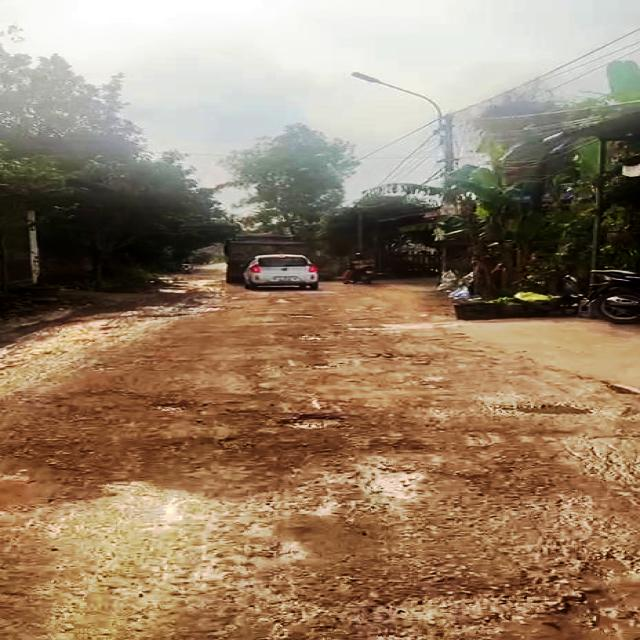pothole: (505, 562, 640, 640), (0, 444, 88, 515), (346, 461, 426, 503), (488, 401, 596, 419), (275, 412, 353, 434), (146, 401, 195, 414), (294, 333, 325, 342), (309, 363, 335, 370), (288, 313, 313, 319)
